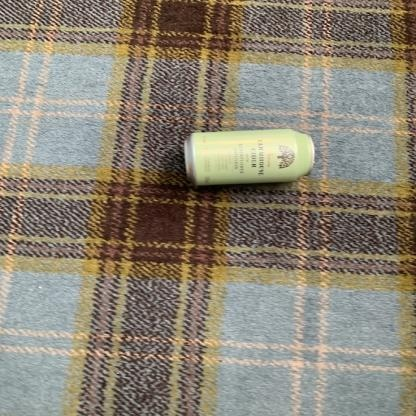trash: (184, 129, 313, 185)
